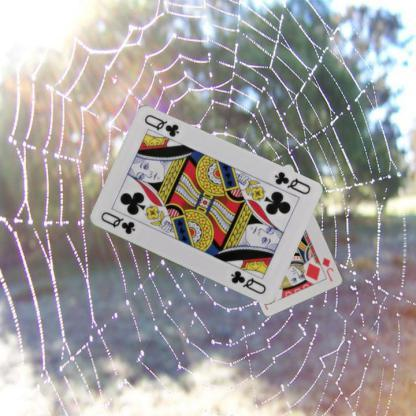Jd: (320, 254, 336, 284)
Qc: (271, 169, 311, 196), (98, 209, 136, 236)
